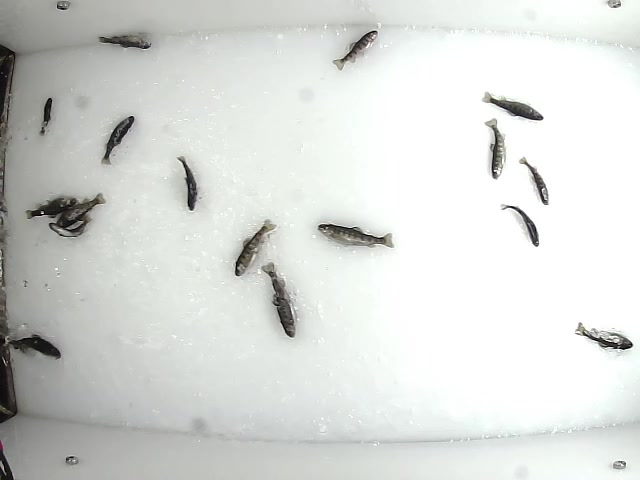fish: (261, 261, 298, 339), (233, 216, 278, 277), (315, 223, 398, 251), (330, 27, 380, 72), (480, 90, 547, 122), (498, 202, 540, 250), (53, 192, 108, 228), (573, 321, 635, 352), (480, 115, 508, 181), (101, 114, 135, 167), (518, 156, 551, 207), (1, 332, 63, 358), (24, 193, 76, 222), (175, 155, 198, 213), (47, 213, 96, 238), (98, 35, 152, 51), (37, 95, 55, 138)
